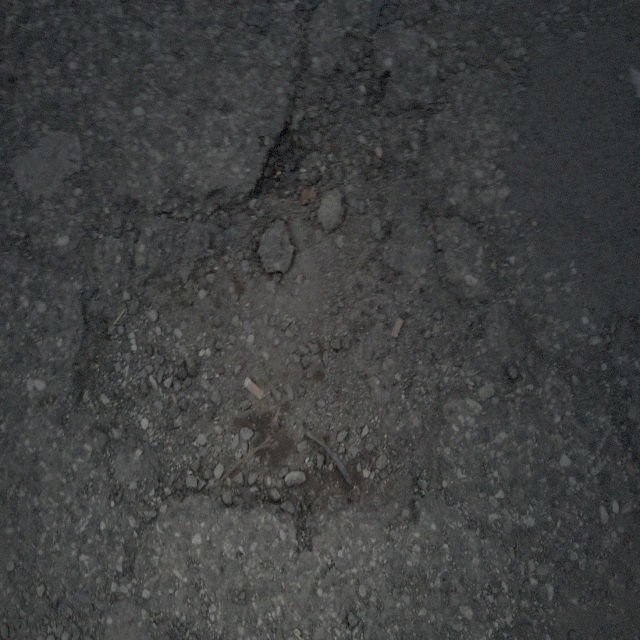pothole: (69, 22, 491, 544)
